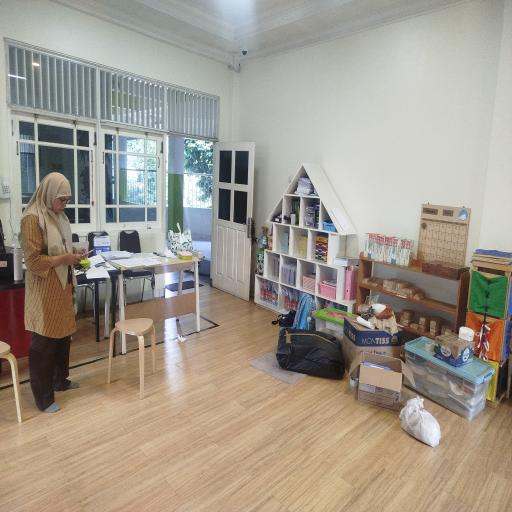blok kayu: (398, 309, 453, 336), (362, 277, 425, 300)
botol minum: (12, 248, 23, 281)
box: (342, 317, 493, 410), (404, 337, 494, 420), (315, 308, 356, 342), (434, 333, 474, 367), (177, 250, 204, 259)
buku: (368, 233, 378, 259), (404, 239, 413, 267), (398, 239, 407, 266), (291, 199, 300, 225), (376, 236, 385, 261), (383, 237, 392, 262), (394, 238, 402, 265), (387, 237, 395, 263), (364, 233, 372, 257), (299, 235, 308, 256), (391, 238, 398, 264), (283, 232, 289, 253)
kelender: (417, 204, 470, 266)
keranjang: (319, 281, 336, 299), (303, 274, 316, 292), (323, 220, 336, 231)
kertas: (331, 207, 349, 231), (295, 177, 313, 195)
keset: (250, 352, 306, 385)
kursi: (110, 317, 156, 399), (0, 341, 22, 423), (123, 270, 155, 305), (87, 279, 106, 322), (119, 230, 141, 254), (87, 231, 108, 251), (110, 276, 117, 328), (108, 354, 112, 384), (141, 281, 145, 301), (106, 284, 109, 292)
lemari: (255, 163, 356, 314), (355, 255, 470, 332), (466, 250, 512, 406), (403, 326, 435, 340)
meja: (125, 257, 200, 332), (112, 261, 130, 321), (121, 331, 128, 354)
pintu: (211, 142, 254, 300)
plastik: (276, 329, 345, 379), (399, 397, 441, 447), (169, 229, 192, 255)
rak: (260, 279, 278, 305), (344, 269, 358, 300), (283, 286, 300, 311), (304, 202, 320, 228), (280, 263, 297, 286), (315, 235, 328, 261)
serokan sampah: (271, 310, 296, 328)
tas ransel: (292, 293, 315, 329)
